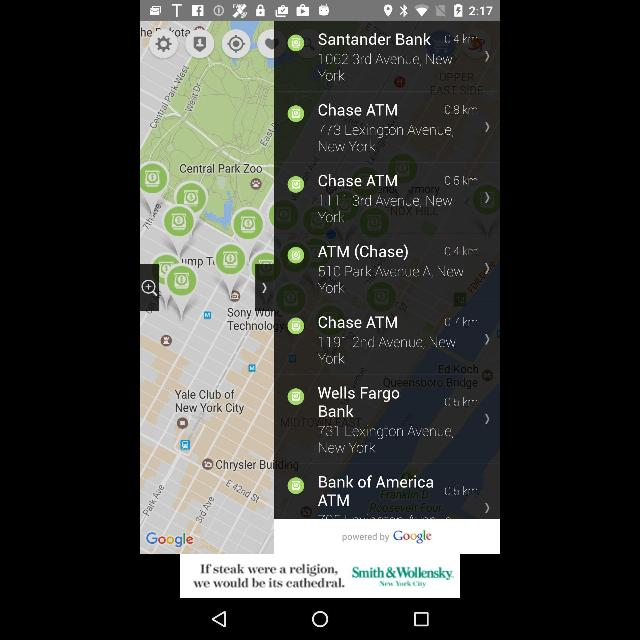icon: (286, 173, 306, 195), (286, 476, 306, 496), (286, 245, 306, 265), (287, 34, 305, 52), (288, 317, 306, 335), (287, 388, 305, 406), (211, 611, 229, 629), (311, 610, 329, 628), (288, 105, 304, 123), (414, 612, 428, 628), (483, 48, 491, 64), (484, 262, 492, 276), (484, 332, 491, 346), (484, 412, 490, 426), (484, 190, 490, 204), (484, 120, 490, 132), (485, 502, 489, 514)
iframe: (140, 556, 500, 598), (274, 520, 500, 554)
map: (141, 22, 273, 554)
panel: (274, 22, 500, 520), (140, 598, 500, 640)
text: (318, 334, 457, 352), (318, 264, 466, 280), (318, 424, 454, 441), (316, 122, 456, 138), (319, 194, 453, 208), (318, 52, 452, 66), (318, 32, 432, 48), (319, 475, 435, 489), (319, 244, 409, 262), (316, 314, 399, 330), (317, 386, 399, 402), (318, 174, 399, 188), (317, 104, 398, 118), (318, 441, 376, 455), (317, 141, 377, 153), (317, 405, 355, 419), (444, 174, 478, 188), (317, 494, 349, 508), (443, 32, 479, 44), (318, 68, 348, 82), (444, 316, 478, 328), (444, 245, 478, 257), (444, 104, 478, 116), (318, 352, 346, 366), (318, 210, 346, 224), (316, 282, 346, 294), (443, 486, 477, 496), (444, 398, 478, 408)
uppertaskbar: (140, 1, 500, 20)
